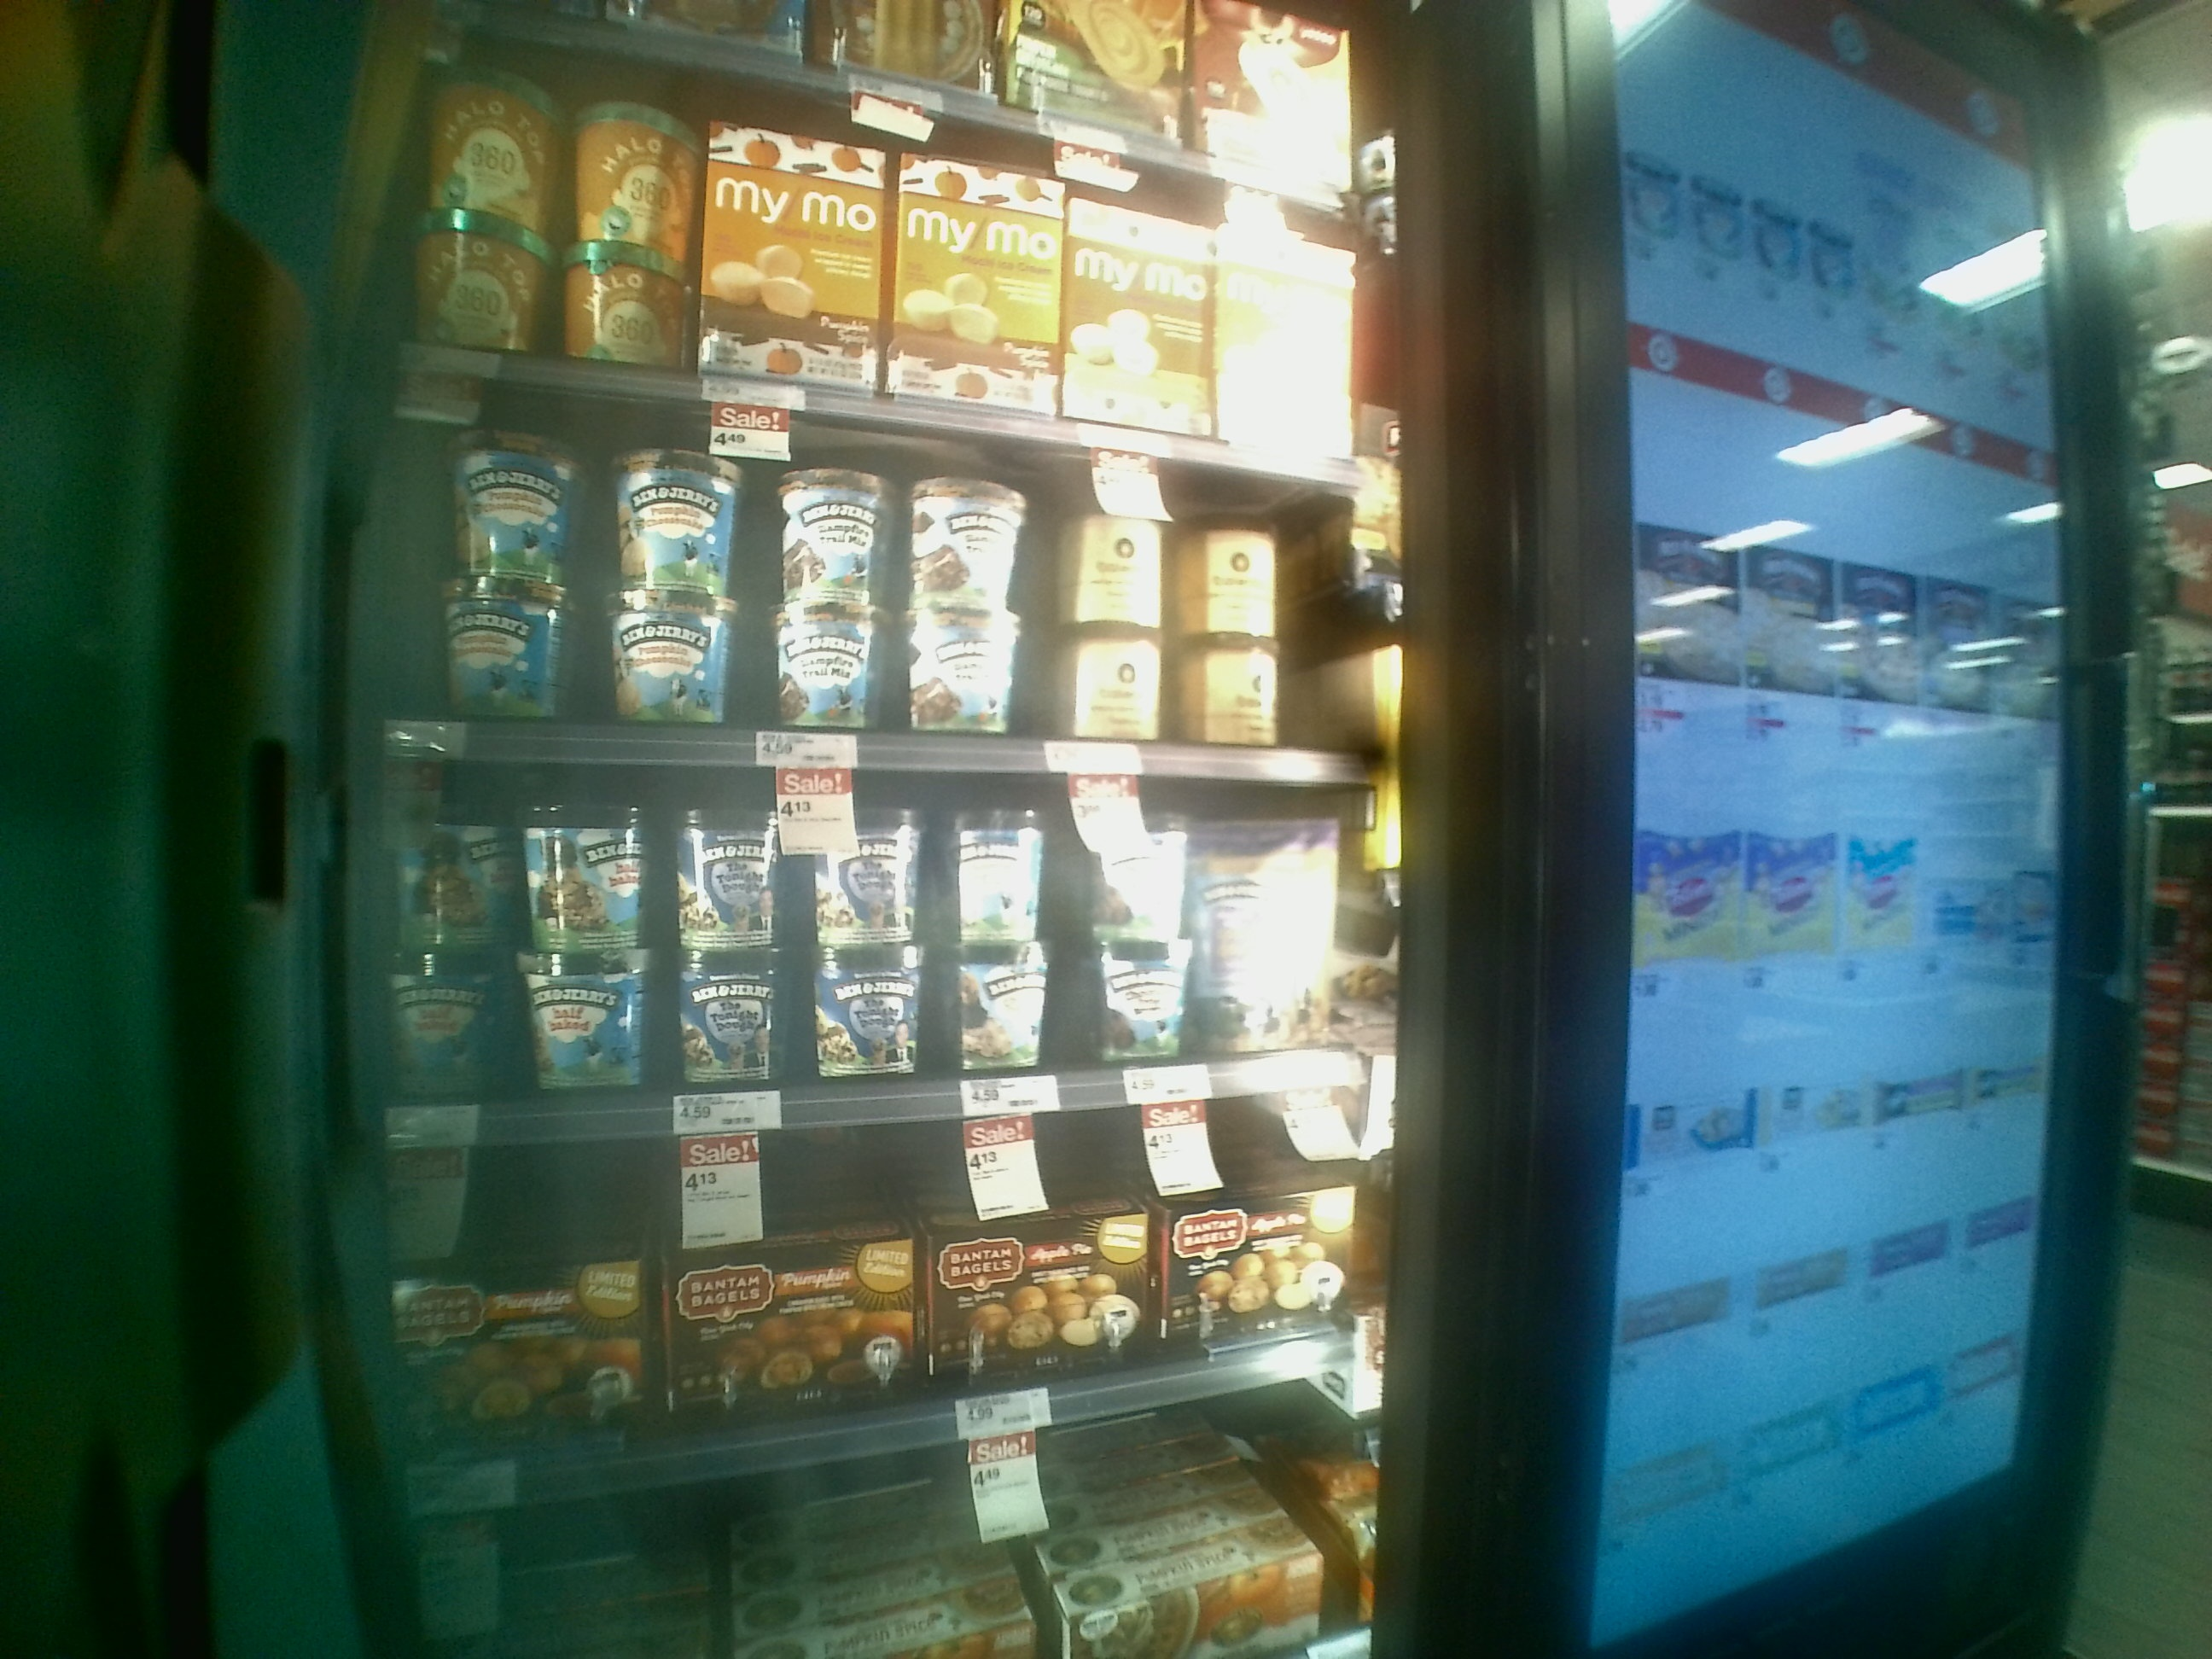shelf: (402, 17, 1385, 484), (371, 373, 1413, 793), (350, 746, 1423, 1138), (347, 1140, 1418, 1511)
